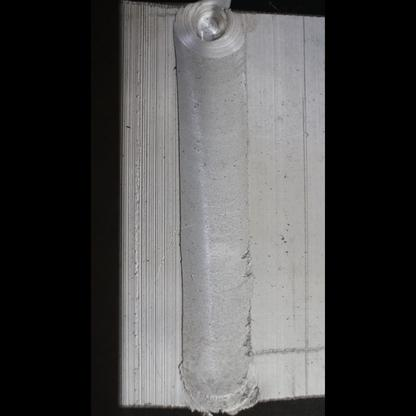crack: (241, 247, 256, 279), (244, 315, 255, 354)
galling: (173, 355, 265, 409)
keyhole: (168, 4, 252, 58)
